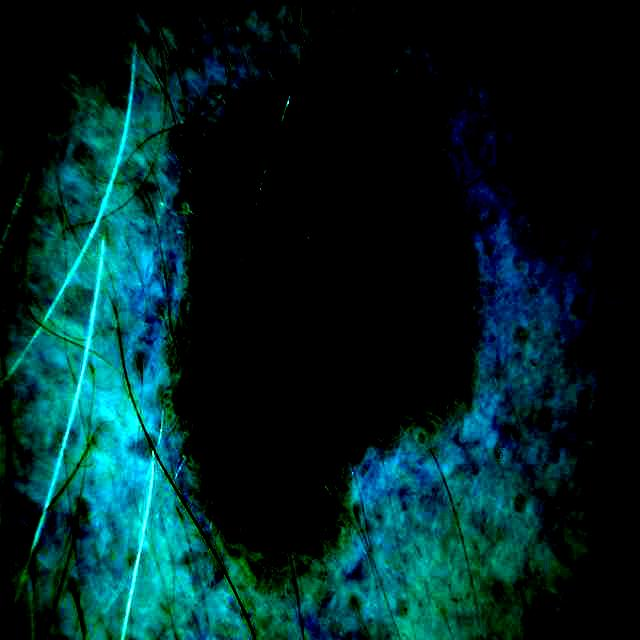BKL: (185, 81, 473, 551)
